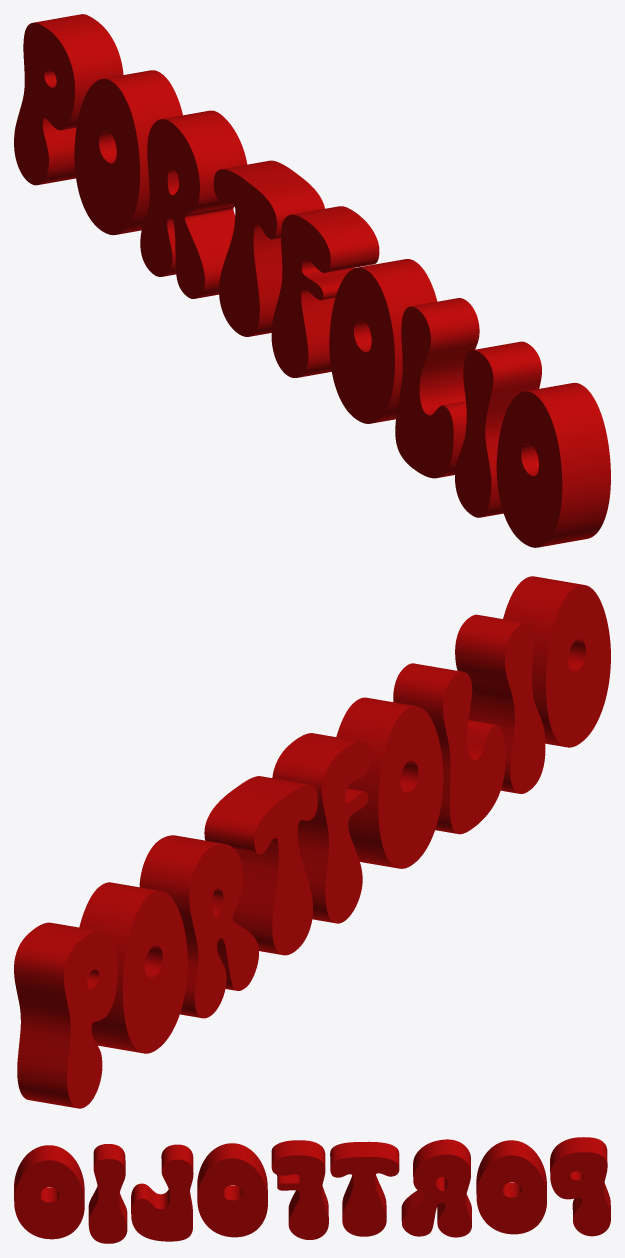
File: store_scene.glb
3 views of the same model, one above another, from view 1: azimuth 30°, elevation 25°; view 2: azimuth 150°, elevation 25°; view 3: azimuth 270°, elevation 25° (orthographic). The views are drawn at different scales.
Parts seen in each view (by area): view 1: Text; view 2: Text; view 3: Text.
Boxes of the visible parts, box(x1,y1,x2,y2) form: Text: box(14, 14, 610, 547); Text: box(14, 576, 610, 1108); Text: box(14, 1137, 610, 1243).
Size of the model in its own units: 0.3863 by 1.01 by 5.74.
